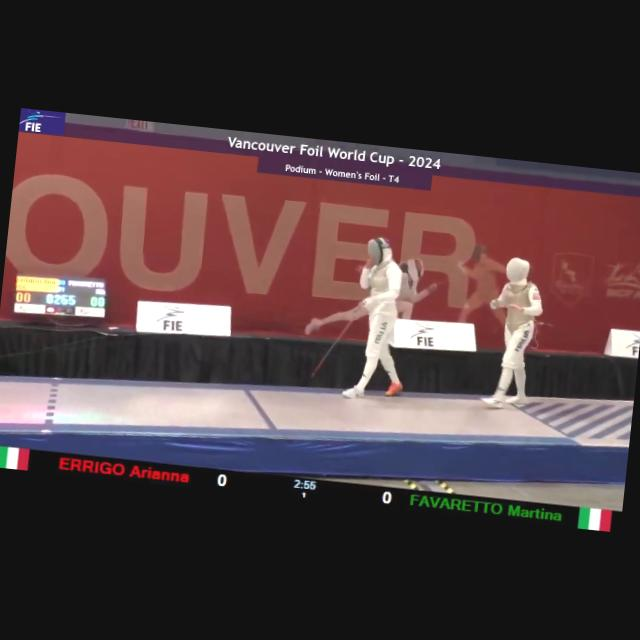blade: (309, 291, 368, 384)
